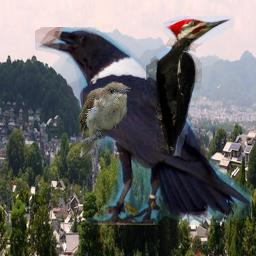Crow: (35, 27, 252, 225)
Cuckoo: (77, 81, 131, 158)
Woodpecker: (146, 16, 235, 156)
